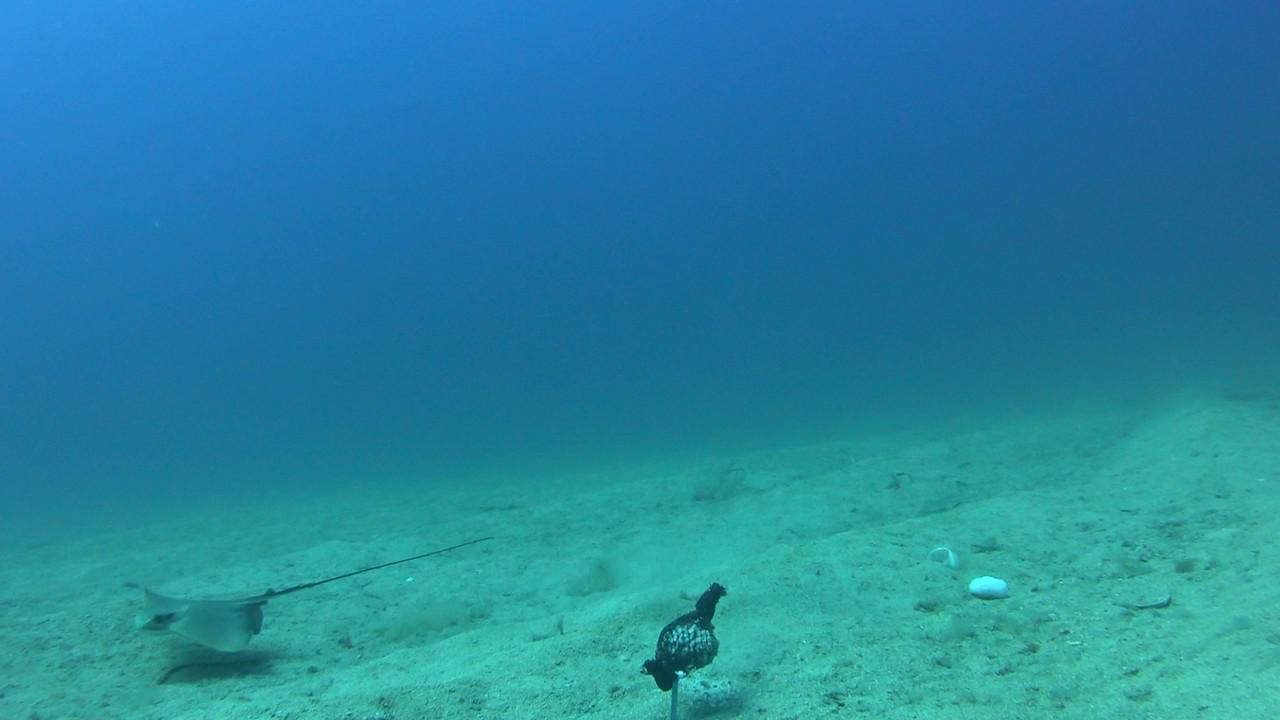myliobatis: (98, 530, 521, 652)
